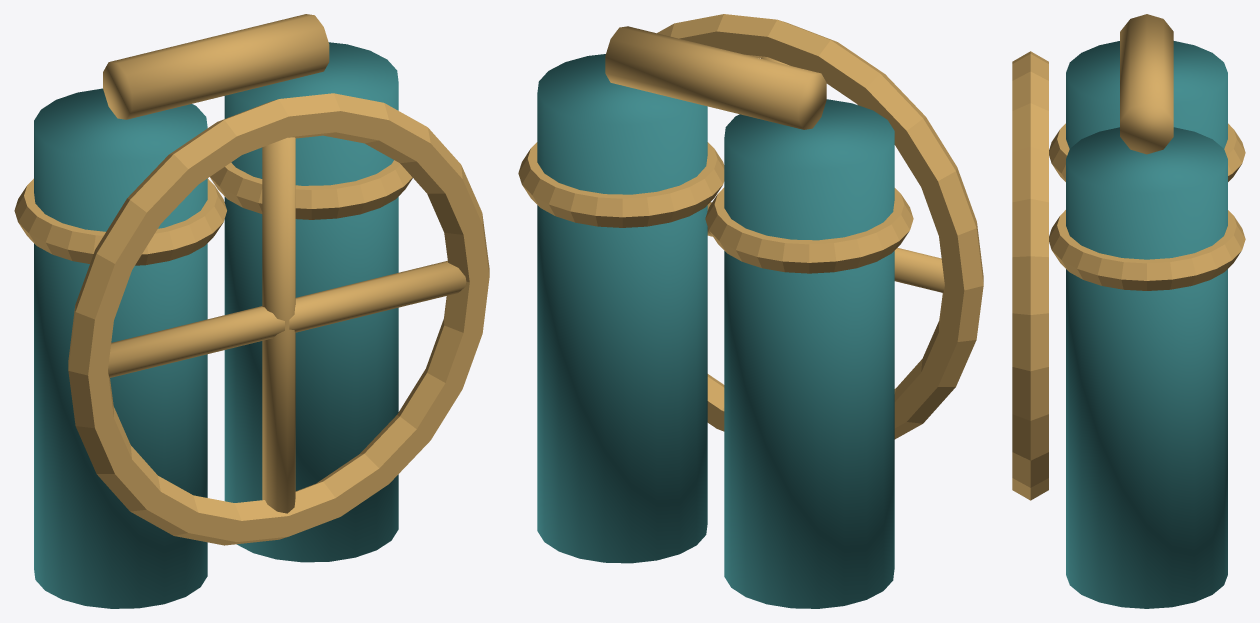
The model's file is relic-jetValve.glb.
The picture shows the model from 3 angles, left to right: view 1: azimuth 30°, elevation 25°; view 2: azimuth 150°, elevation 25°; view 3: azimuth 270°, elevation 25°; orthographic projection. The views are drawn at different scales.
Visible parts, largest first — view 1: relic-jetValve / Paint | North Sea petrol, relic-jetValve / Brass | machined champagne; view 2: relic-jetValve / Paint | North Sea petrol, relic-jetValve / Brass | machined champagne; view 3: relic-jetValve / Paint | North Sea petrol, relic-jetValve / Brass | machined champagne.
Boxes of the visible parts, x1,y1,x2,y2 form: relic-jetValve / Paint | North Sea petrol: (34,42,398,608); relic-jetValve / Brass | machined champagne: (14,14,489,545); relic-jetValve / Paint | North Sea petrol: (537,54,894,608); relic-jetValve / Brass | machined champagne: (518,14,983,439); relic-jetValve / Paint | North Sea petrol: (1066,41,1227,608); relic-jetValve / Brass | machined champagne: (1012,14,1245,500).
Bounding box in the file's own units: 1.28 × 1.48 × 0.662.
